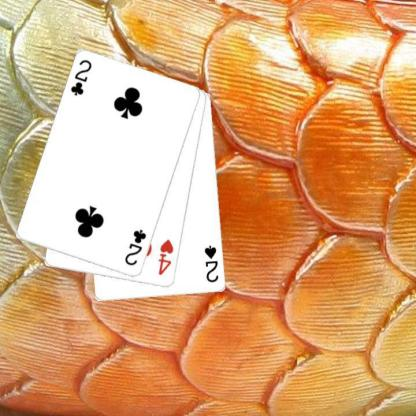2C: (122, 227, 148, 268), (68, 57, 93, 98)
2S: (202, 242, 220, 284)
4H: (156, 237, 175, 277)
